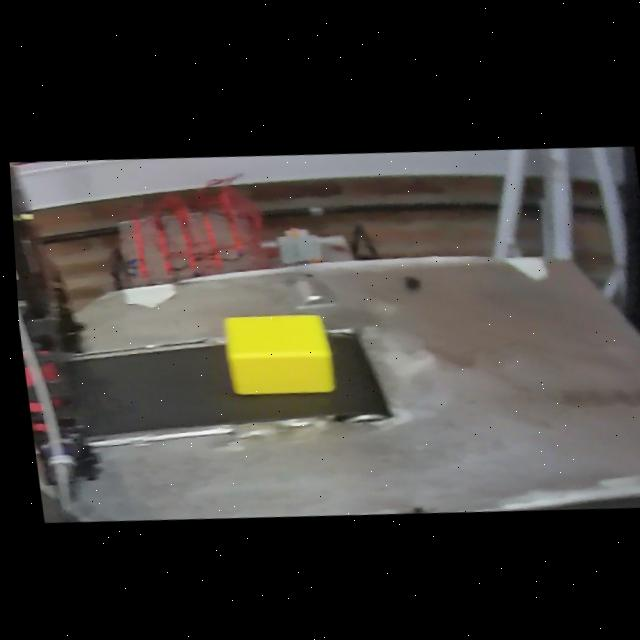redBox: (17, 343, 75, 440)
yellowBox: (214, 301, 335, 402)
